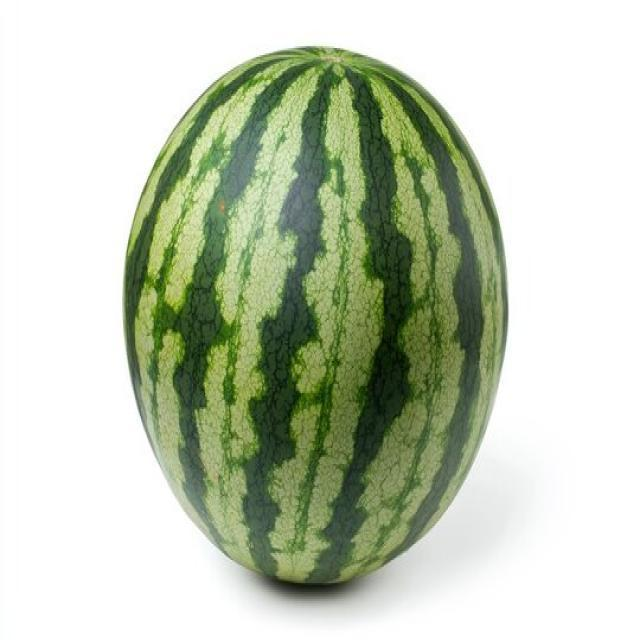Watermelon: (121, 39, 512, 585)
